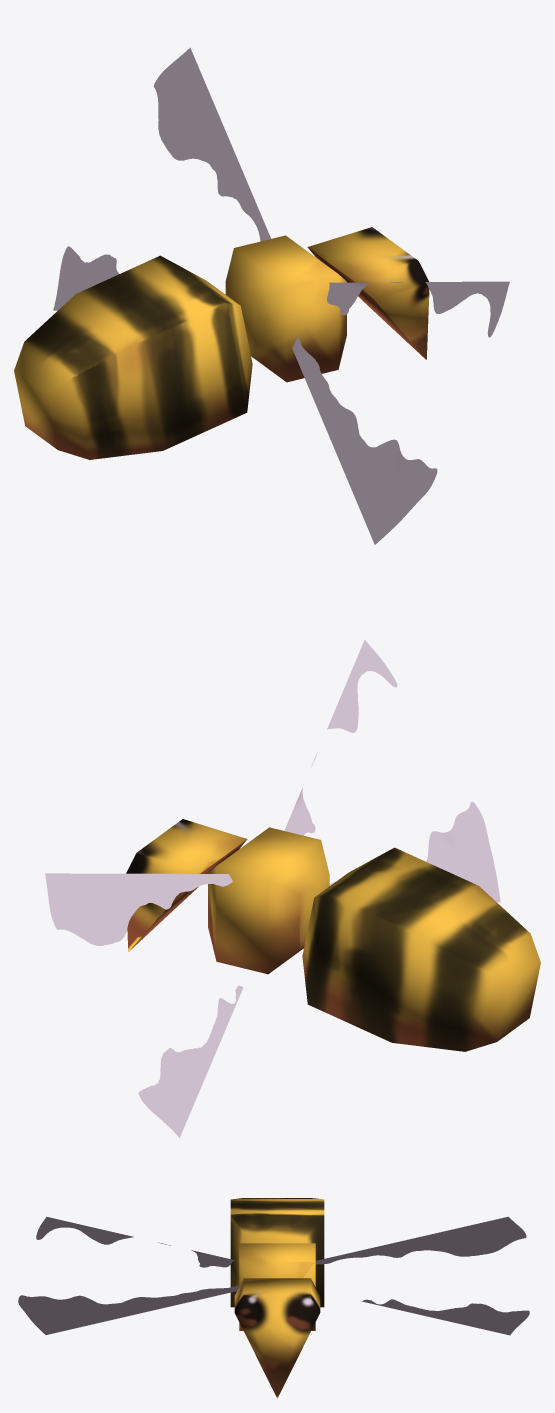
The model's file is bee.fbx.
3 renders of one model, top to bottom at view 1: azimuth 30°, elevation 25°; view 2: azimuth 150°, elevation 25°; view 3: azimuth 270°, elevation 25°, orthographic. The views are drawn at different scales.
Parts seen in each view (by area): view 1: Cube; view 2: Cube; view 3: Cube.
Part boxes in pixels (x1,y1,x2,y2): Cube: (14, 47, 509, 544); Cube: (45, 640, 540, 1137); Cube: (18, 1198, 529, 1398).
Size of the model in its own units: 477 by 298 by 761.
